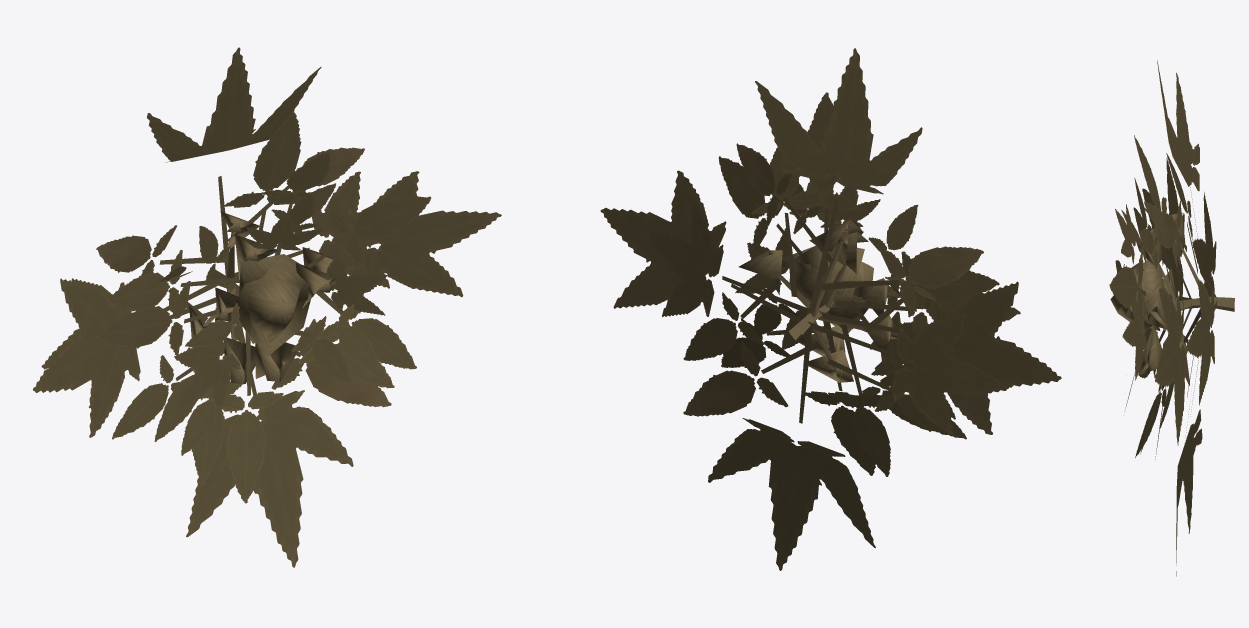
Rendered from p_auto_ripe_c4_cards.obj.
3 views of the same model, side by side, from view 1: azimuth 30°, elevation 25°; view 2: azimuth 150°, elevation 25°; view 3: azimuth 270°, elevation 25° (orthographic). The views are drawn at different scales.
Bounding box in the file's own units: 1.38 × 1.45 × 0.322.
Materials: 1 (1 with a texture image).
